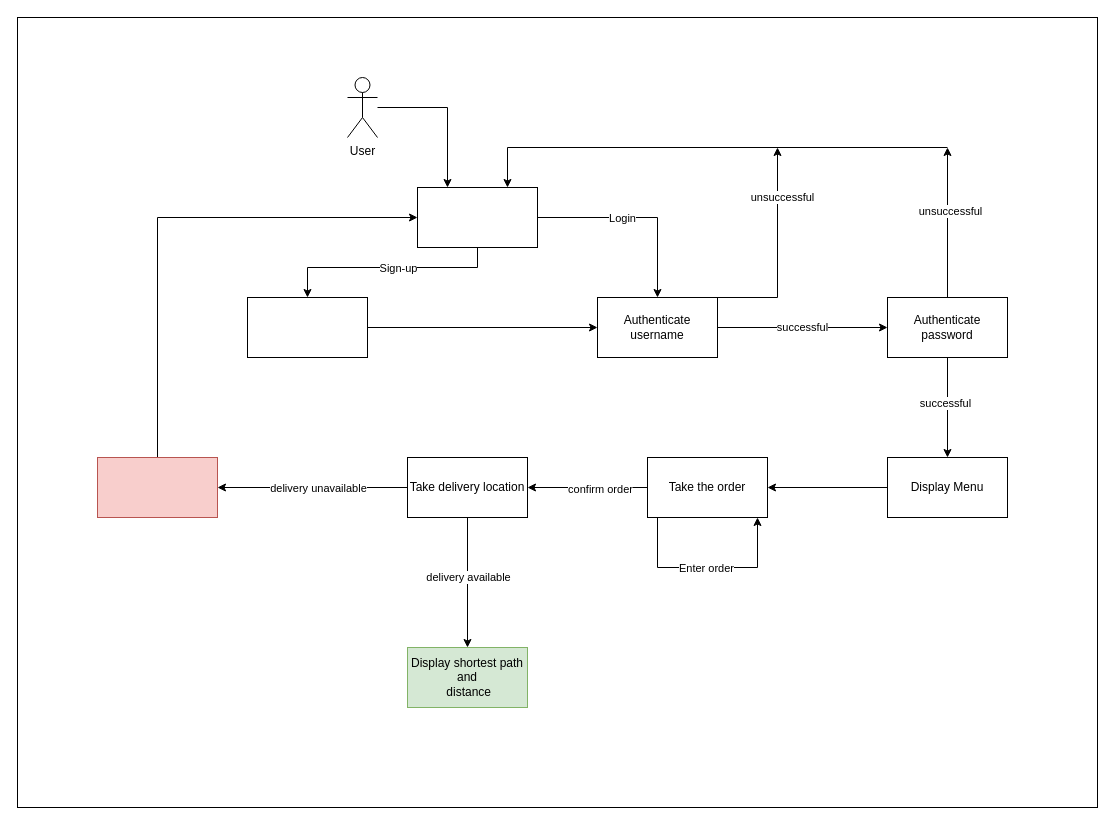
The diagram is 1115 pixels wide and 825 high, and some of its shapes have lost their labels. Here are the shapes that lost their labels. From the top down, the box of each, then its label:
(416, 186, 538, 248): Login/Sign-up
(246, 296, 368, 358): Take user details
(96, 456, 218, 518): service not available here
